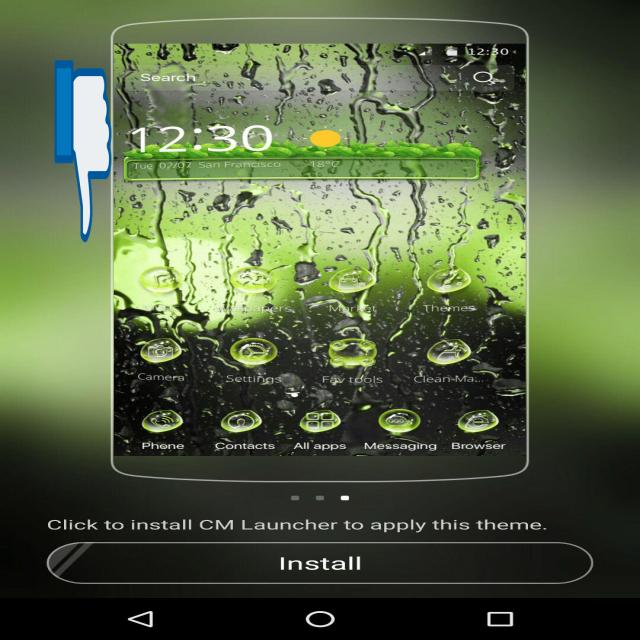obstruction: (55, 56, 112, 246)
